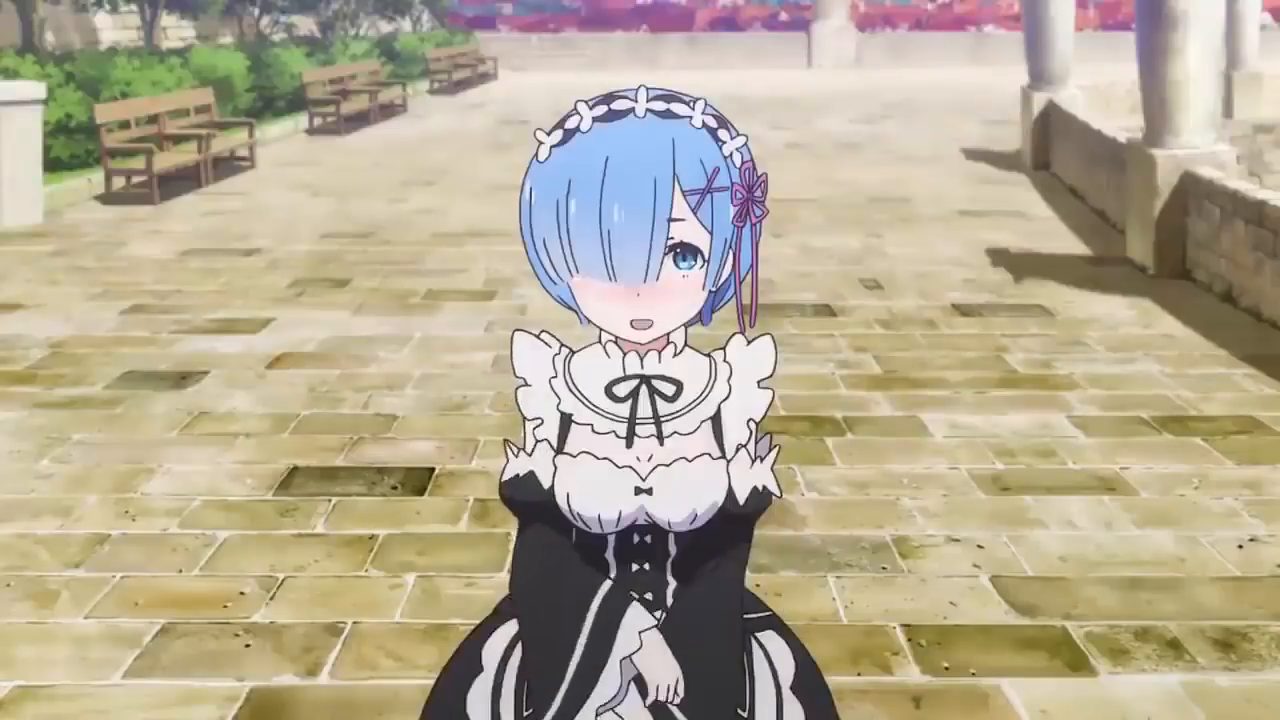REM: (521, 88, 771, 349)
